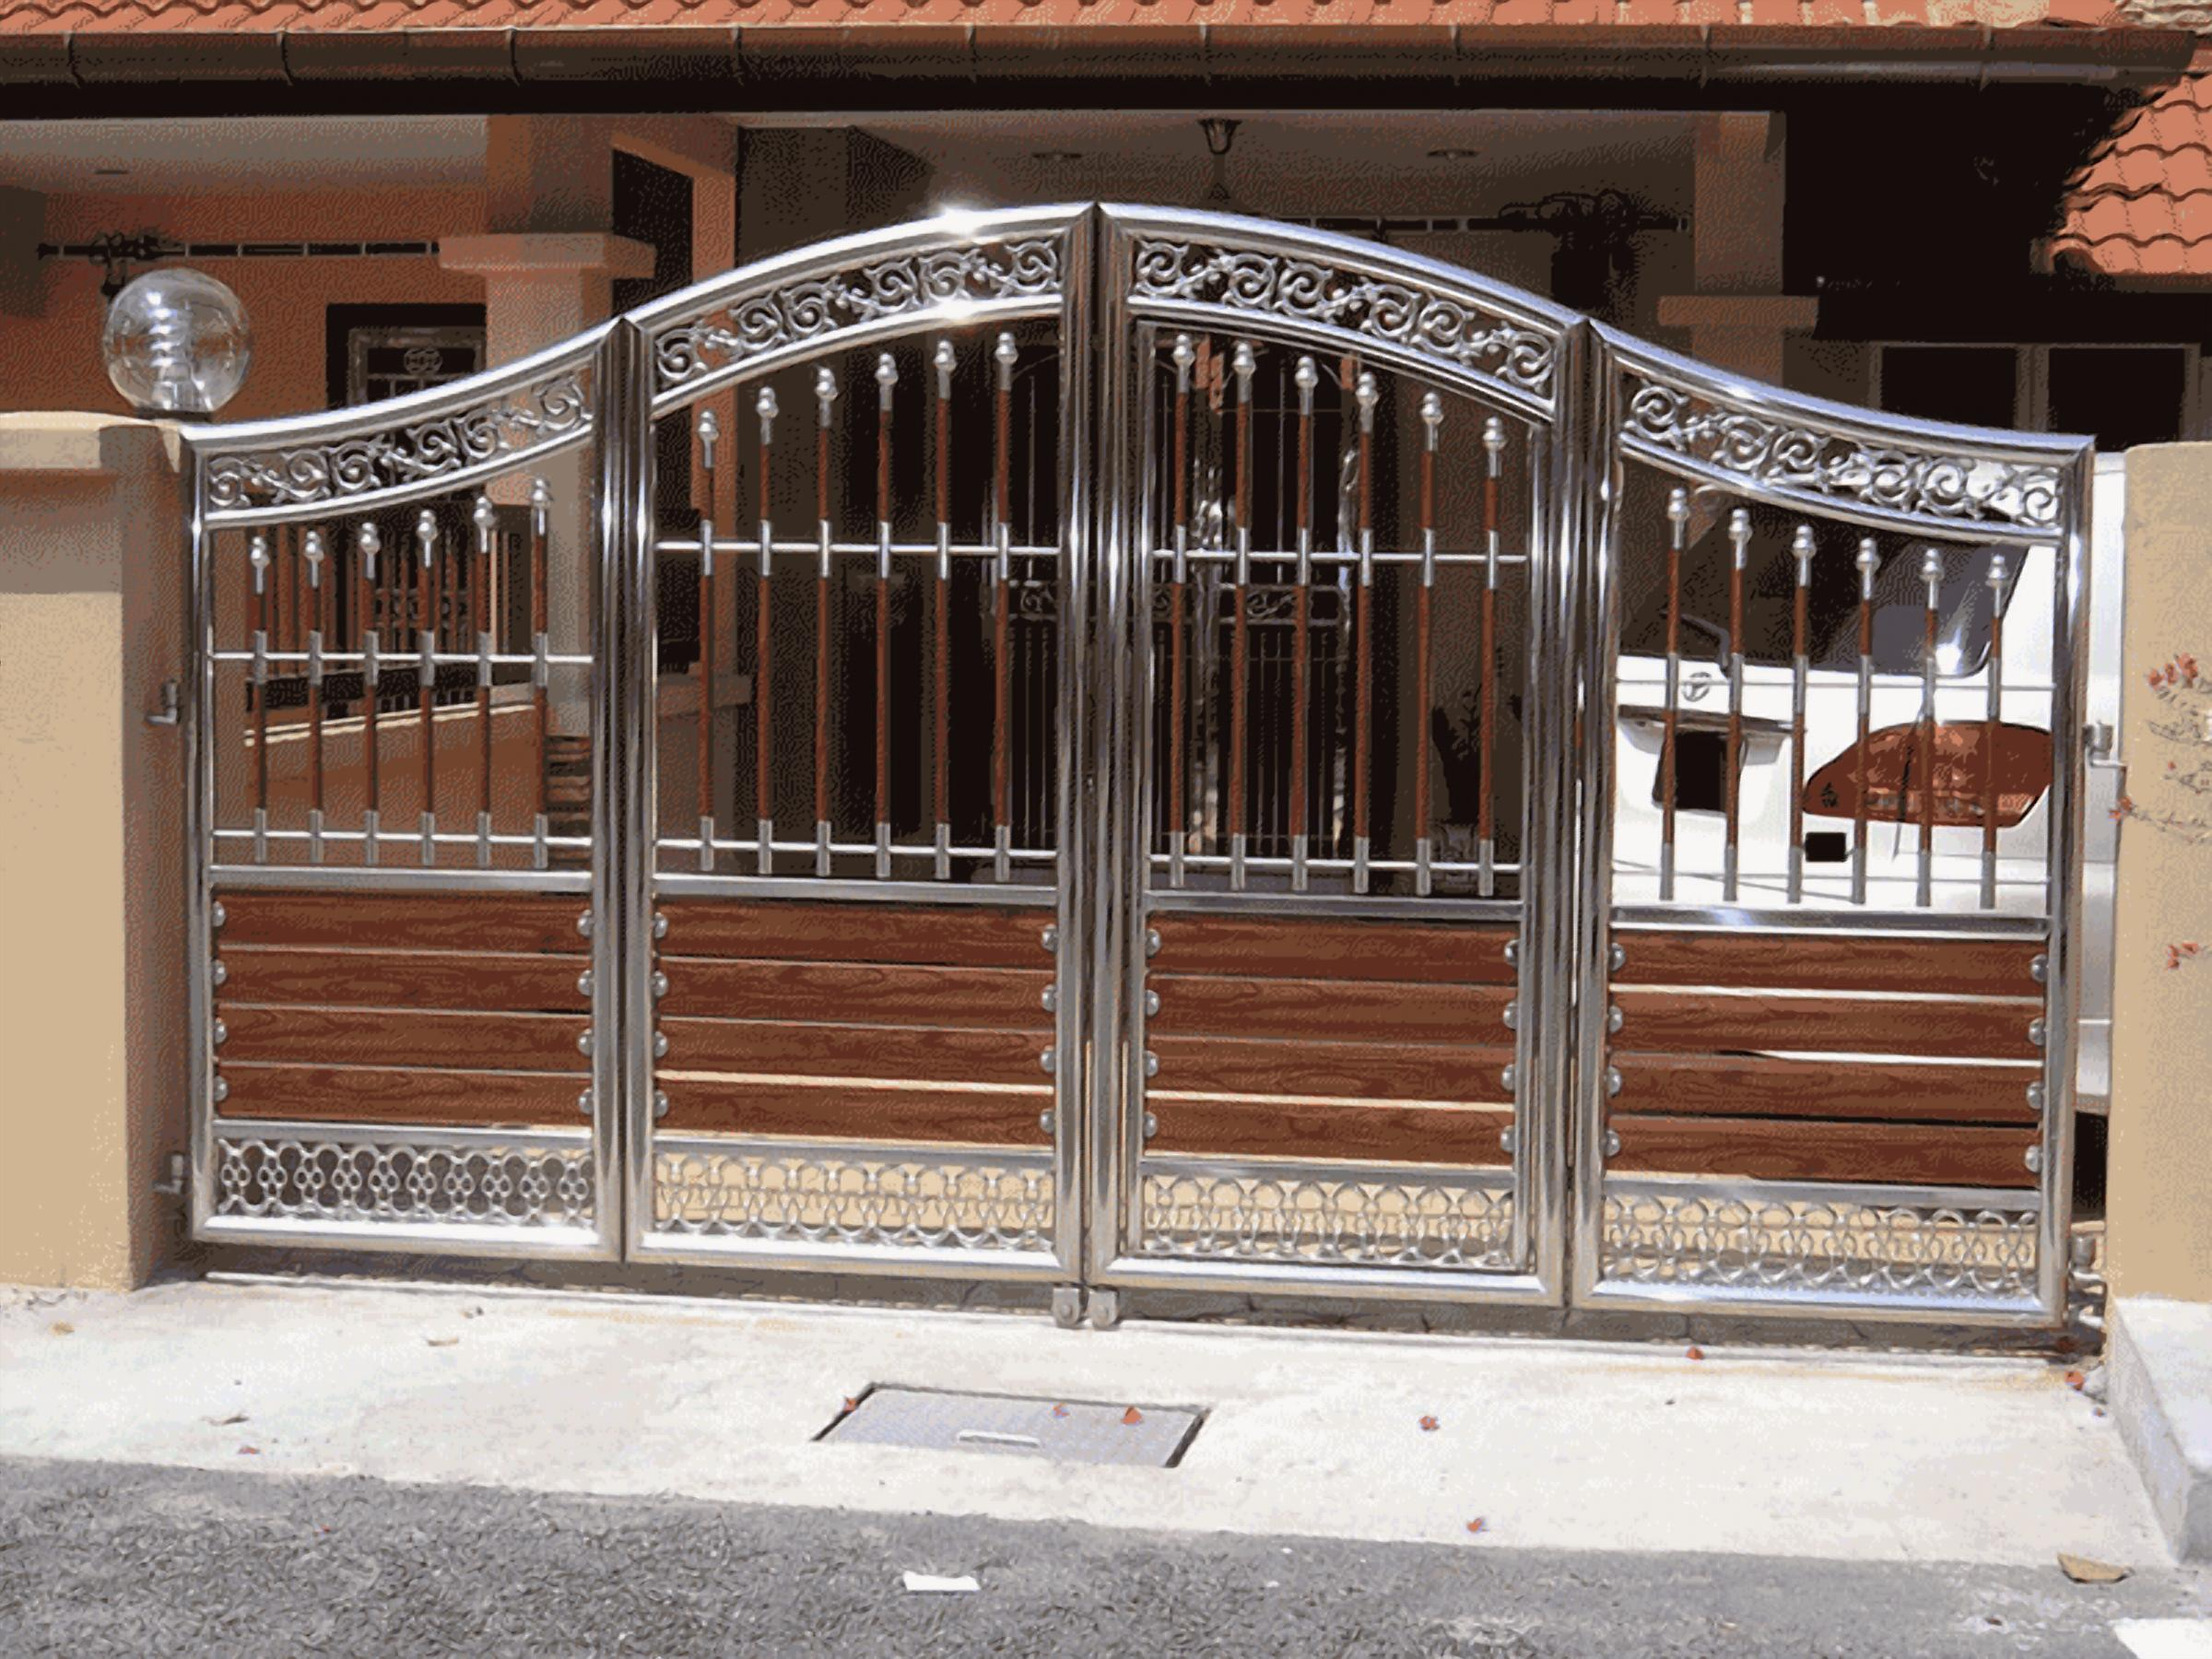Building: (0, 0, 2212, 968)
Car: (1551, 433, 2212, 1208)
Door: (995, 340, 1382, 877)
Gate: (176, 194, 2119, 1347)
Window-without-grill: (1878, 342, 2212, 581), (333, 328, 512, 614)
